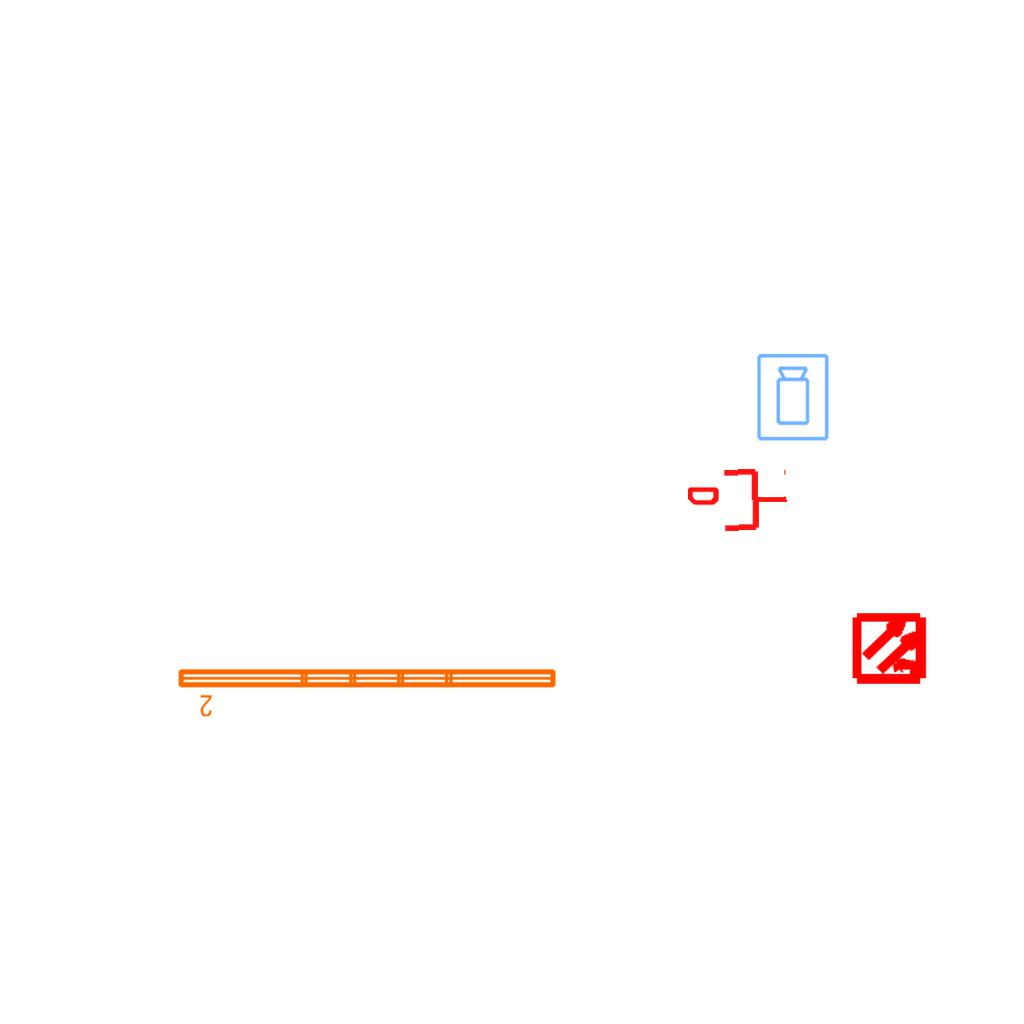Ambulanz_Pendelleuchte_LED: (174, 663, 561, 719)
Datenanschluss_einfach: (687, 464, 790, 536)
KFO_Kamera_mit_Festobjektiv: (755, 352, 832, 443)
OT_Multisensormelder_(Kombination_RMO_WMD): (835, 592, 948, 705)
